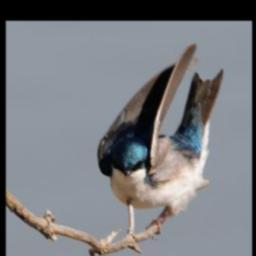Swallow: (96, 41, 225, 240)
